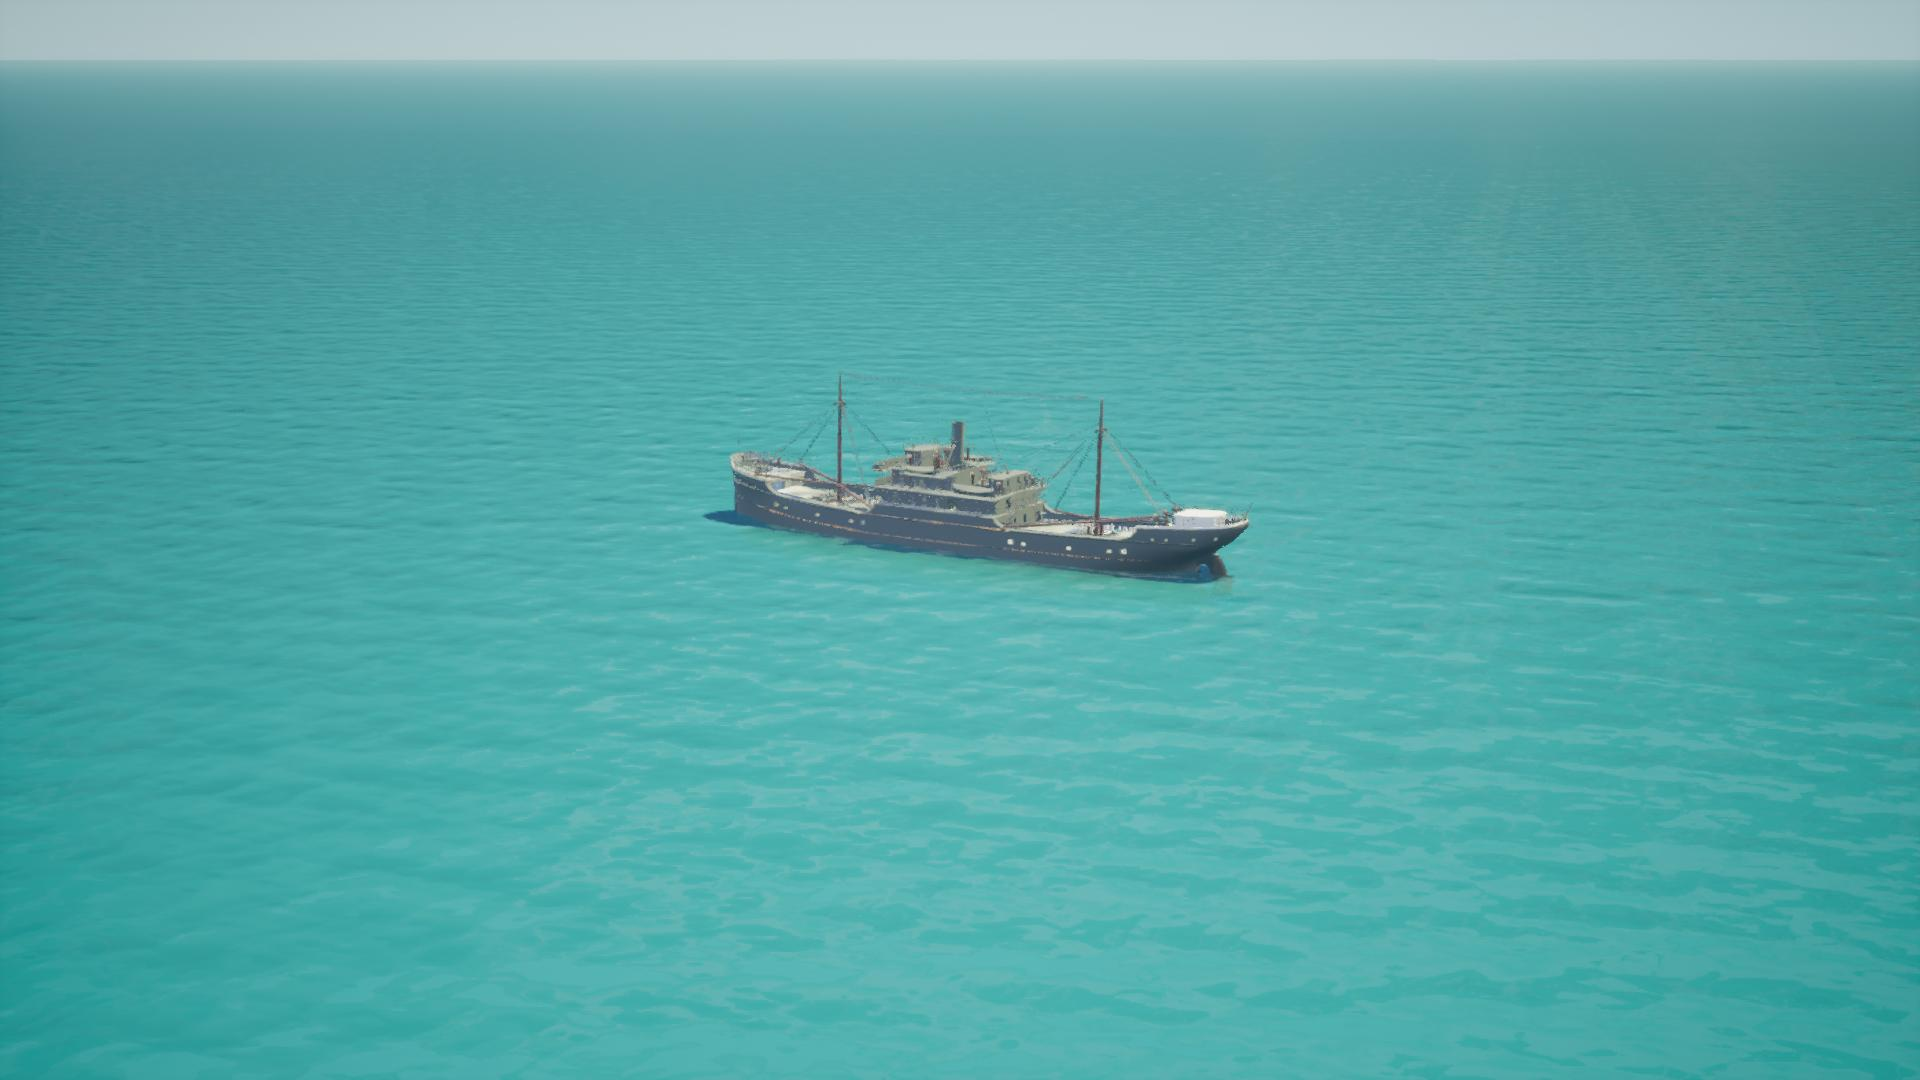Fishing Boat: (719, 386, 1247, 582)
